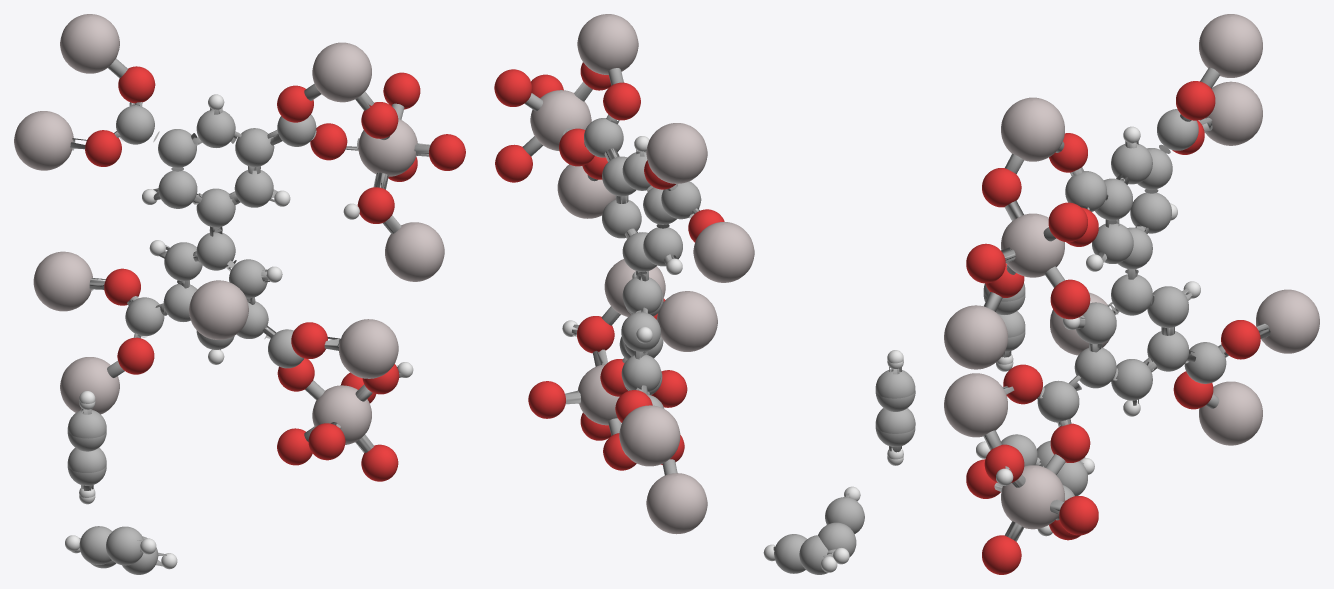
The model's file is 1028617-alt.fbx.
3 renders of one model, left to right at view 1: azimuth 30°, elevation 25°; view 2: azimuth 150°, elevation 25°; view 3: azimuth 270°, elevation 25°, orthographic. The views are drawn at different scales.
Parts seen in each view (by area): view 1: Sticks, Aluminium|Ball_Aluminium|Dupli|4, Ball_Aluminium, Aluminium|Ball_Aluminium|Dupli|6, Aluminium|Ball_Aluminium|Dupli|3, Aluminium|Ball_Aluminium|Dupli|8, Aluminium|Ball_Aluminium|Dupli|7, Aluminium|Ball_Aluminium|Dupli|2, Aluminium|Ball_Aluminium|Dupli|5, Aluminium|Ball_Aluminium|Dupli|0, Aluminium|Ball_Aluminium|Dupli|1, Carbon|Ball_Carbon|Dupli|13 (+34 smaller); view 2: Sticks, Aluminium|Ball_Aluminium|Dupli|7, Aluminium|Ball_Aluminium|Dupli|5, Aluminium|Ball_Aluminium|Dupli|6, Aluminium|Ball_Aluminium|Dupli|8, Ball_Aluminium, Aluminium|Ball_Aluminium|Dupli|3, Aluminium|Ball_Aluminium|Dupli|1, Aluminium|Ball_Aluminium|Dupli|2, Aluminium|Ball_Aluminium|Dupli|0, Aluminium|Ball_Aluminium|Dupli|4, Carbon|Ball_Carbon|Dupli|5 (+27 smaller); view 3: Sticks, Aluminium|Ball_Aluminium|Dupli|2, Aluminium|Ball_Aluminium|Dupli|3, Aluminium|Ball_Aluminium|Dupli|4, Aluminium|Ball_Aluminium|Dupli|6, Aluminium|Ball_Aluminium|Dupli|7, Aluminium|Ball_Aluminium|Dupli|5, Aluminium|Ball_Aluminium|Dupli|0, Aluminium|Ball_Aluminium|Dupli|8, Aluminium|Ball_Aluminium|Dupli|1, Carbon|Ball_Carbon|Dupli|4, Carbon|Ball_Carbon|Dupli|0 (+33 smaller).
Boxes of the visible parts, bbox=[...] form: Sticks: bbox=[70, 58, 430, 566]; Aluminium|Ball_Aluminium|Dupli|4: bbox=[339, 319, 398, 378]; Ball_Aluminium: bbox=[189, 280, 248, 339]; Aluminium|Ball_Aluminium|Dupli|6: bbox=[60, 14, 119, 73]; Aluminium|Ball_Aluminium|Dupli|3: bbox=[312, 42, 371, 102]; Aluminium|Ball_Aluminium|Dupli|8: bbox=[14, 111, 73, 170]; Aluminium|Ball_Aluminium|Dupli|7: bbox=[33, 251, 92, 311]; Aluminium|Ball_Aluminium|Dupli|2: bbox=[385, 222, 444, 281]; Aluminium|Ball_Aluminium|Dupli|5: bbox=[60, 357, 119, 414]; Aluminium|Ball_Aluminium|Dupli|0: bbox=[312, 385, 371, 444]; Aluminium|Ball_Aluminium|Dupli|1: bbox=[358, 119, 417, 176]; Carbon|Ball_Carbon|Dupli|13: bbox=[116, 105, 154, 144]; Sticks: bbox=[522, 68, 901, 557]; Aluminium|Ball_Aluminium|Dupli|7: bbox=[619, 405, 680, 466]; Aluminium|Ball_Aluminium|Dupli|5: bbox=[646, 473, 707, 534]; Aluminium|Ball_Aluminium|Dupli|6: bbox=[646, 123, 707, 183]; Aluminium|Ball_Aluminium|Dupli|8: bbox=[693, 222, 754, 282]; Ball_Aluminium: bbox=[656, 291, 717, 351]; Aluminium|Ball_Aluminium|Dupli|3: bbox=[577, 14, 638, 74]; Aluminium|Ball_Aluminium|Dupli|1: bbox=[530, 90, 591, 150]; Aluminium|Ball_Aluminium|Dupli|2: bbox=[557, 164, 615, 218]; Aluminium|Ball_Aluminium|Dupli|0: bbox=[577, 364, 619, 425]; Aluminium|Ball_Aluminium|Dupli|4: bbox=[604, 259, 665, 316]; Carbon|Ball_Carbon|Dupli|5: bbox=[584, 118, 623, 157]; Sticks: bbox=[983, 67, 1270, 541]; Aluminium|Ball_Aluminium|Dupli|2: bbox=[944, 305, 1007, 369]; Aluminium|Ball_Aluminium|Dupli|3: bbox=[1001, 97, 1064, 161]; Aluminium|Ball_Aluminium|Dupli|4: bbox=[944, 373, 1007, 437]; Aluminium|Ball_Aluminium|Dupli|6: bbox=[1199, 14, 1262, 77]; Aluminium|Ball_Aluminium|Dupli|7: bbox=[1256, 289, 1319, 353]; Aluminium|Ball_Aluminium|Dupli|5: bbox=[1199, 381, 1262, 445]; Aluminium|Ball_Aluminium|Dupli|0: bbox=[1001, 465, 1064, 529]; Aluminium|Ball_Aluminium|Dupli|8: bbox=[1199, 81, 1262, 145]; Aluminium|Ball_Aluminium|Dupli|1: bbox=[1001, 213, 1064, 277]; Carbon|Ball_Carbon|Dupli|4: bbox=[1111, 274, 1152, 315]; Carbon|Ball_Carbon|Dupli|0: bbox=[1037, 380, 1079, 422].
Size of the model in its own units: 13.83 by 16.81 by 10.93.
